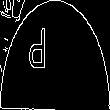P_S: (45, 29, 65, 81)
